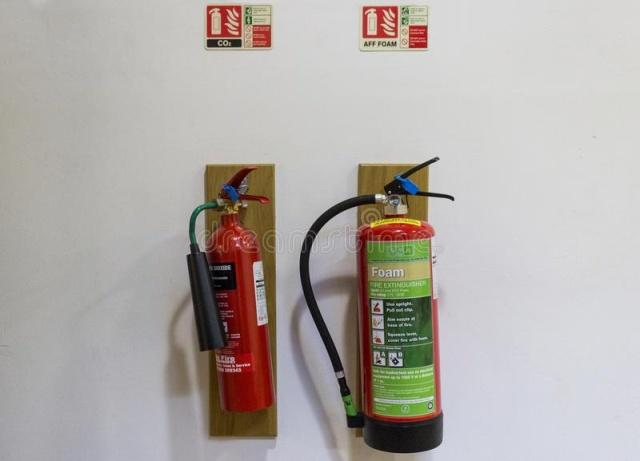APAR: (356, 166, 444, 456), (203, 167, 275, 412)
